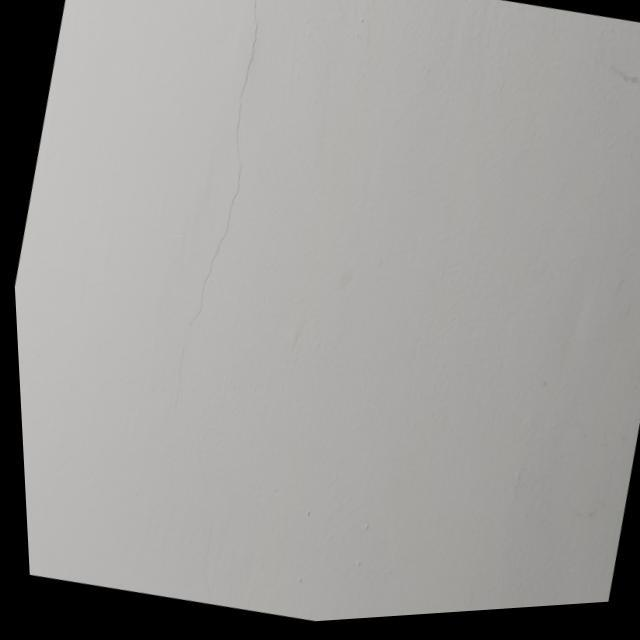Crack: (187, 3, 266, 325)
